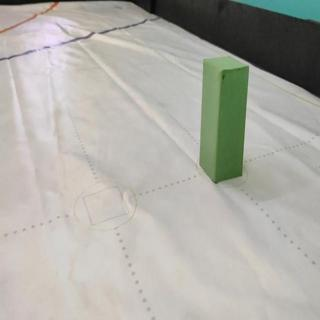greenbox: (200, 53, 250, 183)
